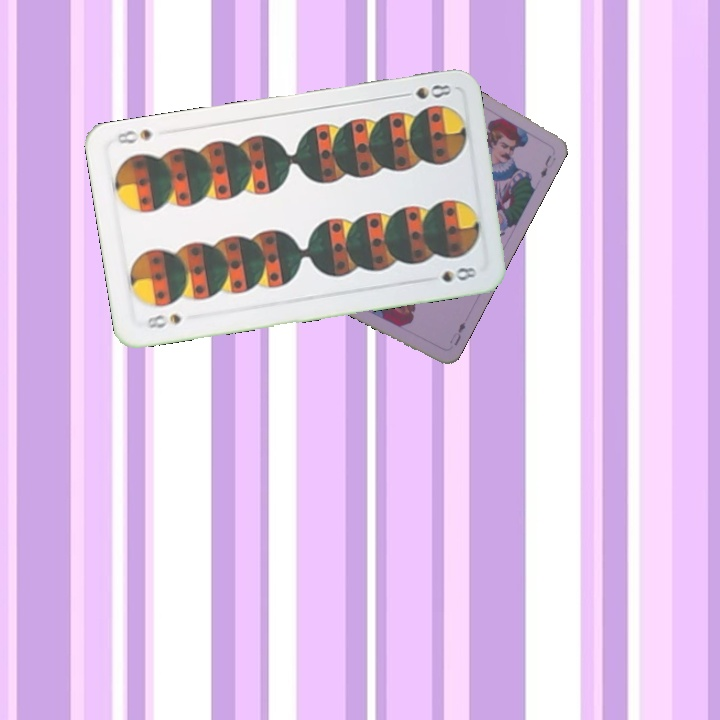EU: (445, 318, 468, 348)
S8: (395, 80, 454, 102), (141, 310, 185, 331)
